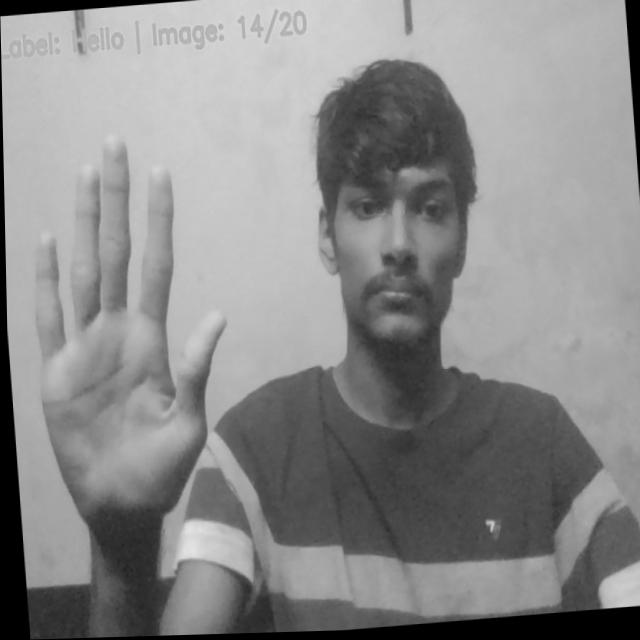Hello: (19, 123, 244, 524)
